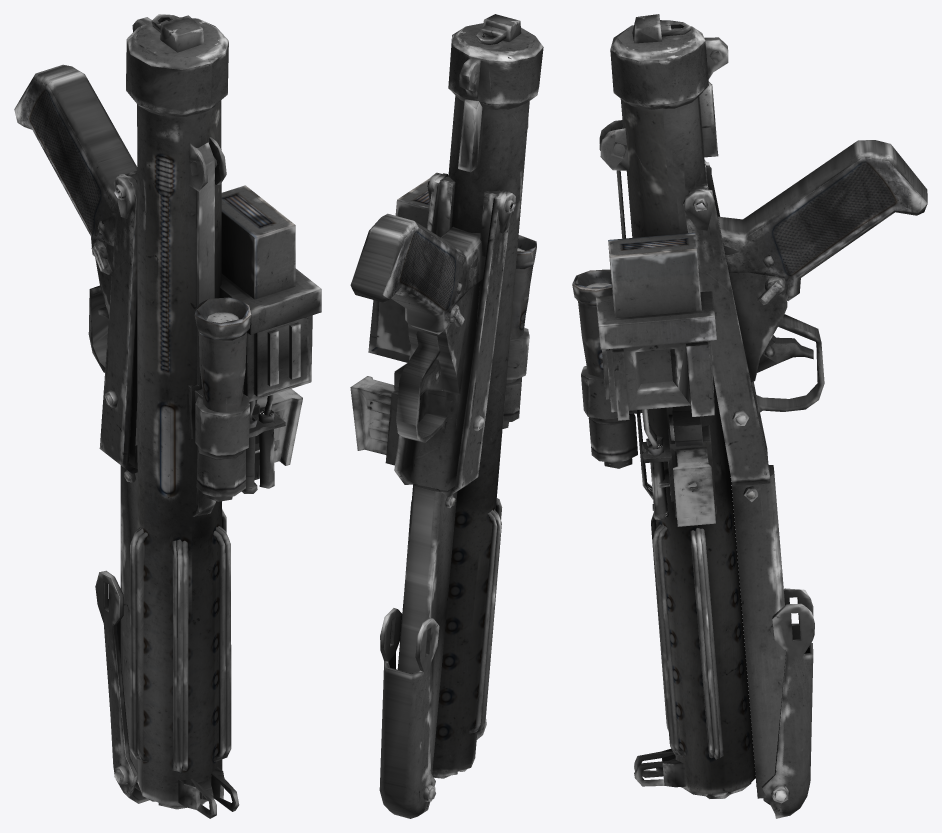
Rendered from E11Blaster.fbx.
3 renders of one model, left to right at view 1: azimuth 30°, elevation 25°; view 2: azimuth 150°, elevation 25°; view 3: azimuth 270°, elevation 25°, orthographic. The views are drawn at different scales.
Visible parts, largest first — view 1: polySurface2908.001; view 2: polySurface2908.001; view 3: polySurface2908.001.
Boxes of the visible parts, left/top/right/bottom form: polySurface2908.001: left=14, top=14, right=321, bottom=818; polySurface2908.001: left=350, top=14, right=543, bottom=818; polySurface2908.001: left=572, top=14, right=927, bottom=818.
Size of the model in its own units: 0.0867 by 0.3876 by 0.1601.
